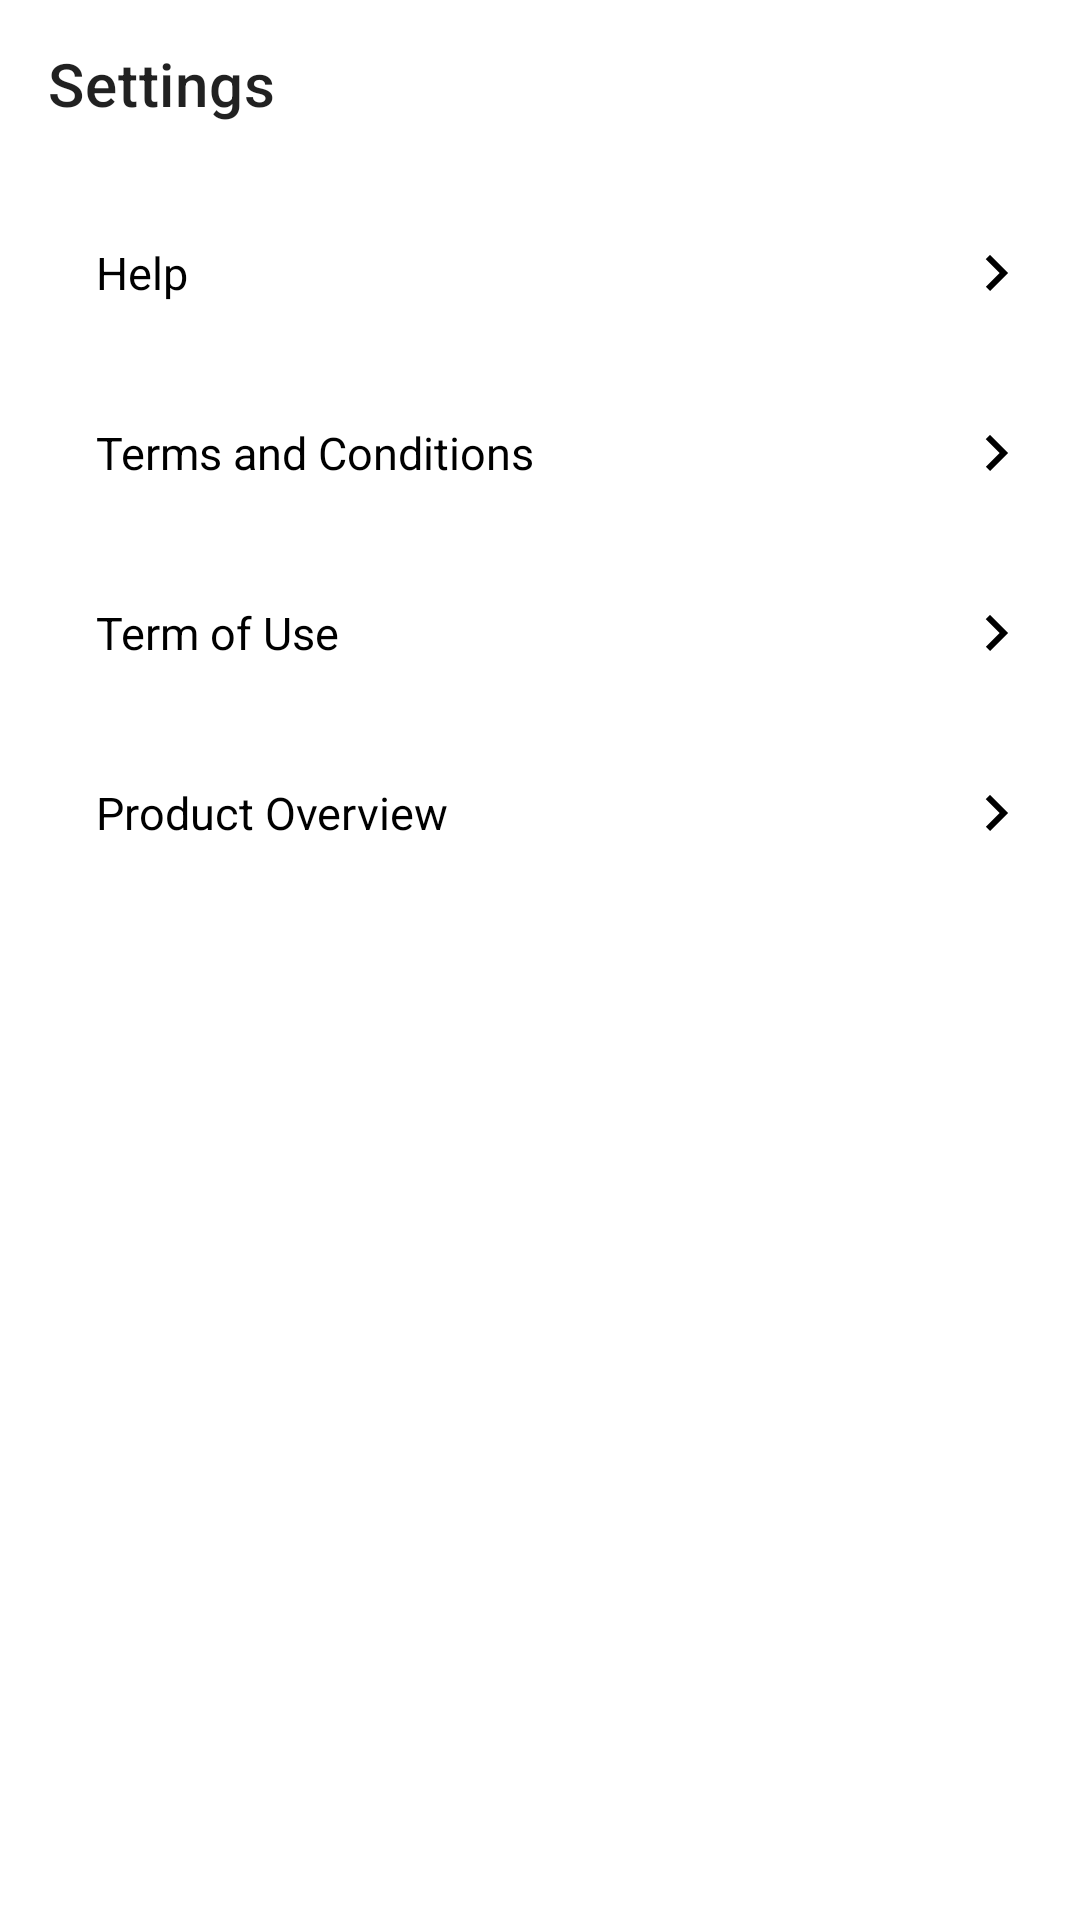

Icons on this 1080×1920 Android screen, each with the point to tap as point (x, y):
arrow right: point (997, 273), point (997, 453), point (997, 633), point (997, 813)
